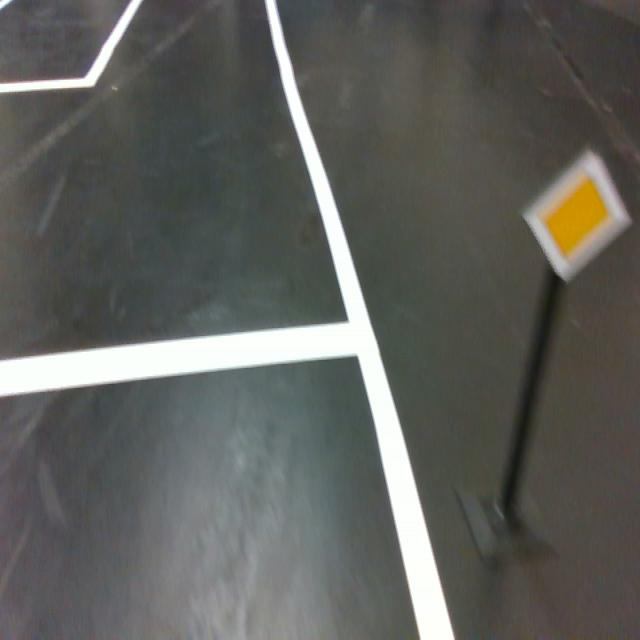priority-sign: (522, 149, 634, 285)
